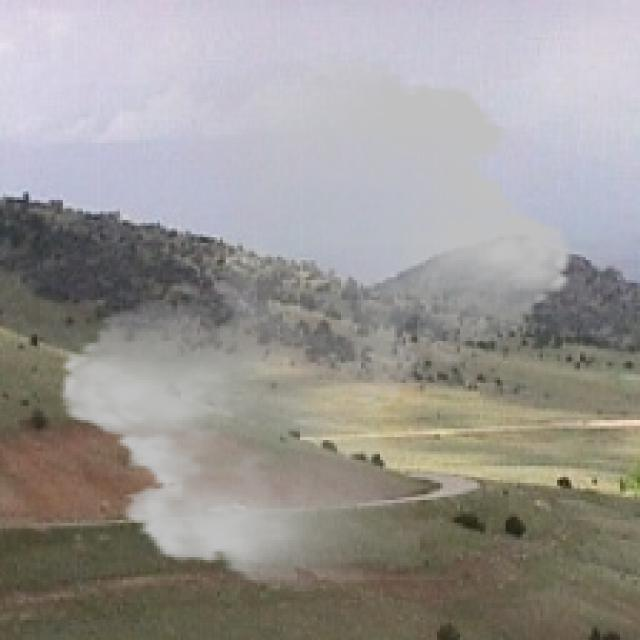smoke: (43, 54, 588, 592)
